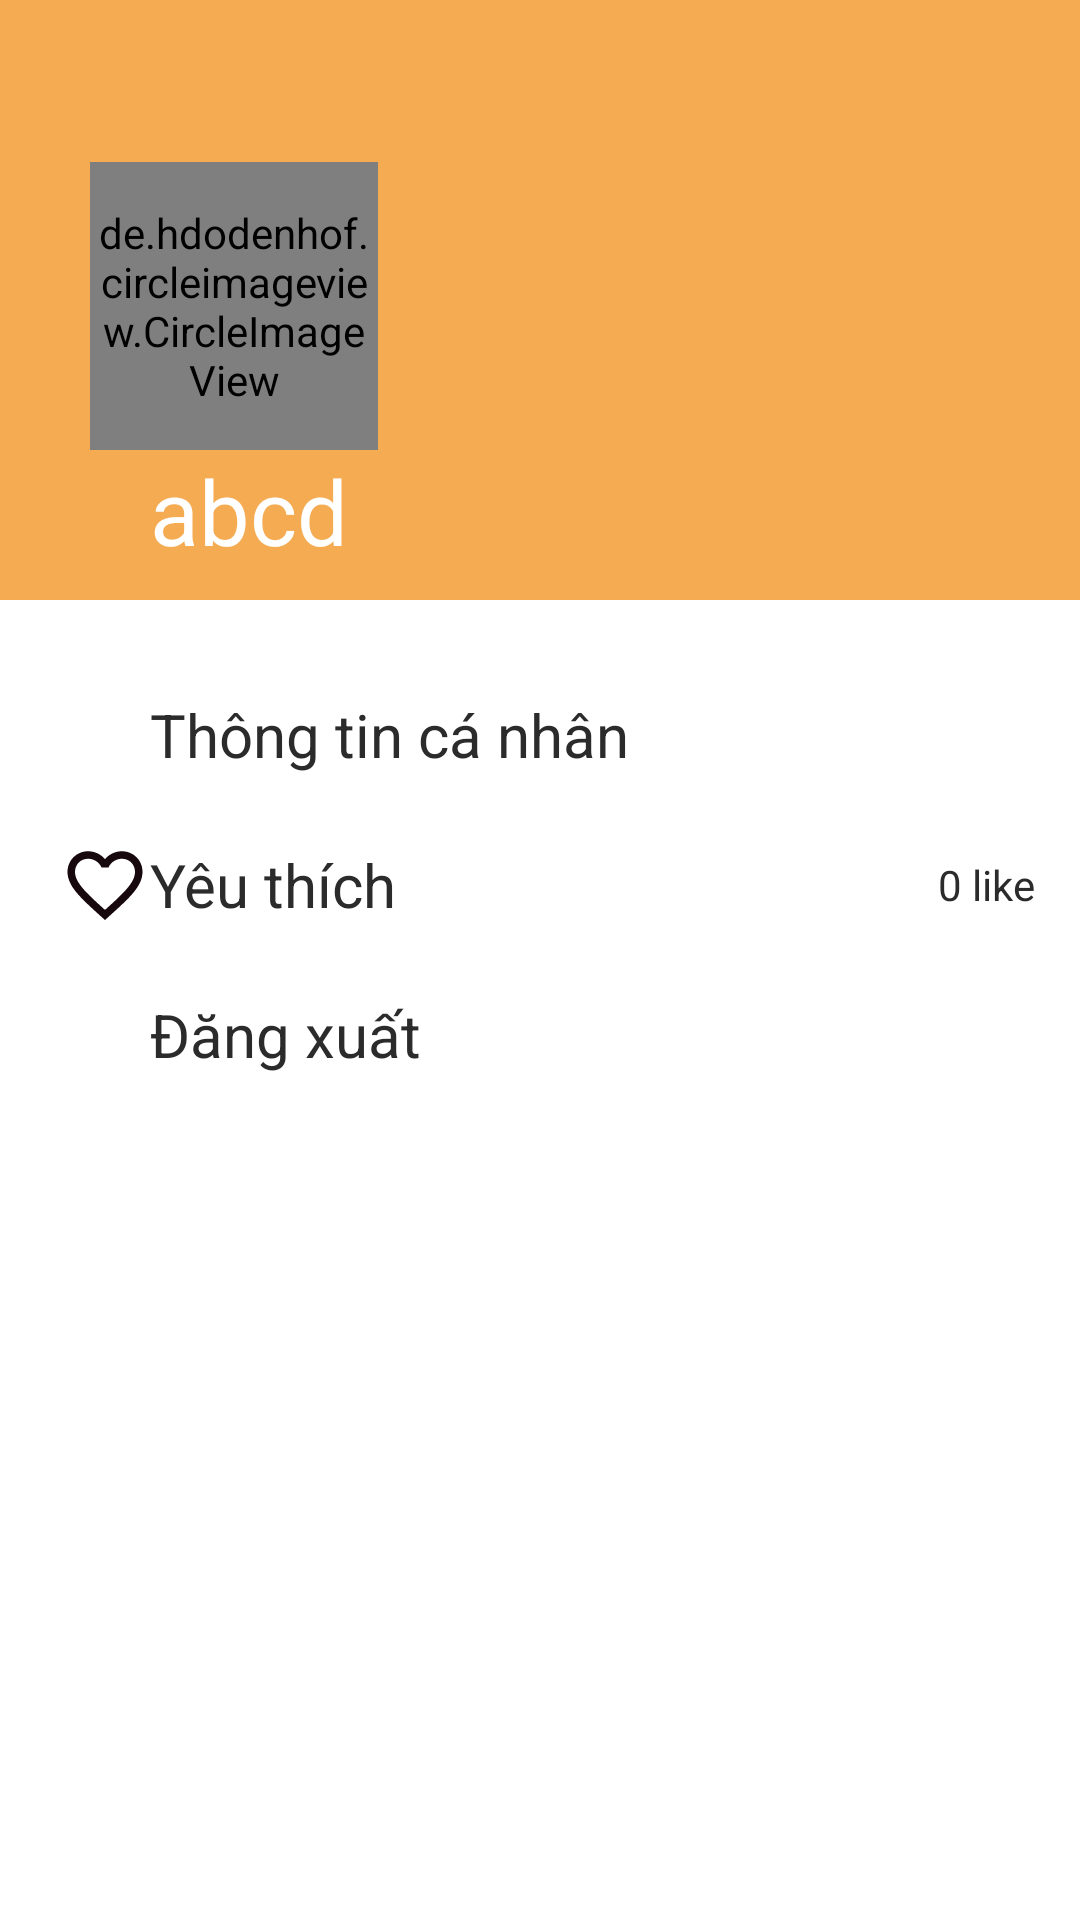

Locate icon controls on the screen. Image size 1080×1920, boxes as box(x1, y1, x2, y2).
tym trang: box(67, 851, 143, 920)
